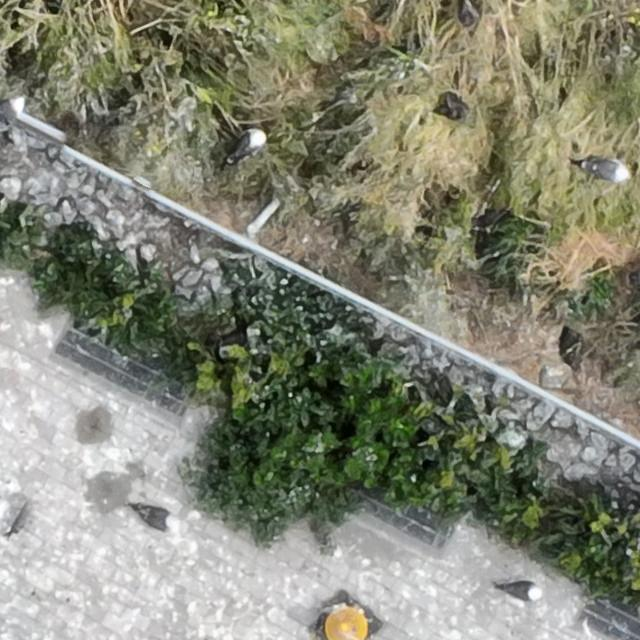umineko: (224, 129, 266, 162), (588, 160, 631, 182), (134, 506, 176, 528), (0, 96, 25, 127), (502, 582, 538, 600)
